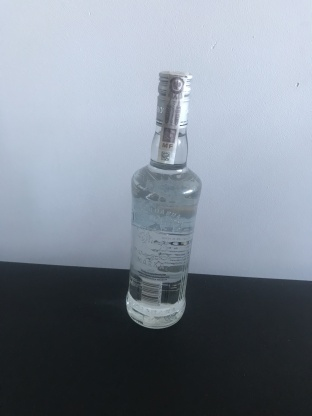nakretka: (153, 67, 195, 131)
